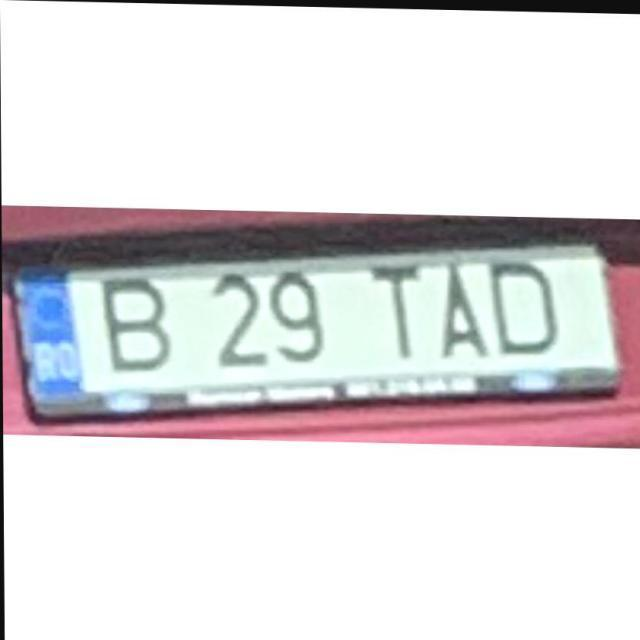license-plates: (15, 246, 618, 417)
